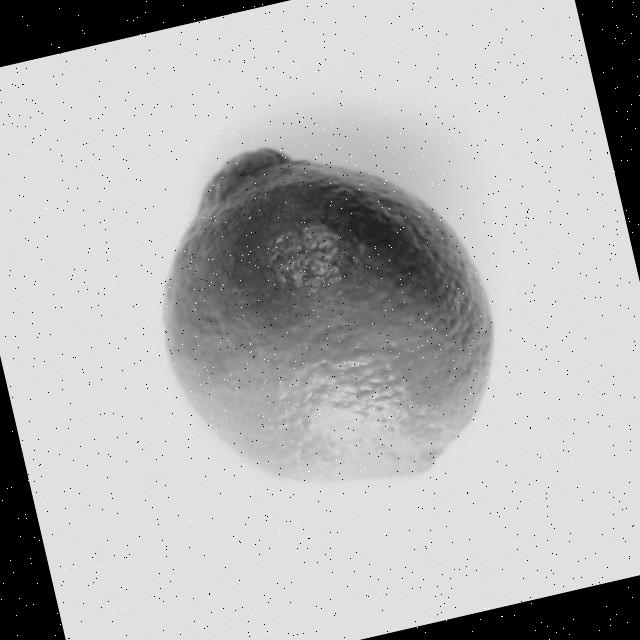Lemon: (122, 104, 524, 524)
